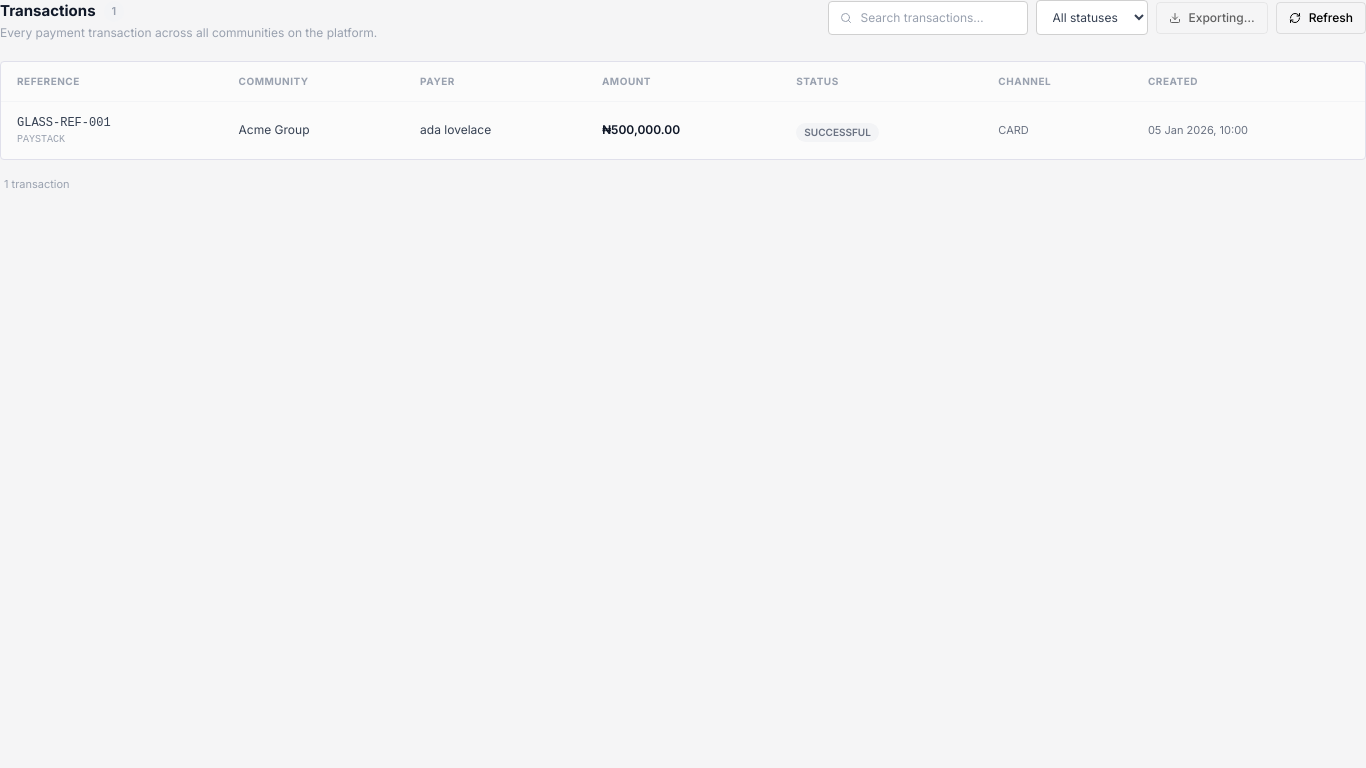
Test case: TransactionsSection › surfaces the failure reason when the transaction failed
Step 1. Click the text "GLASS-REF-001" → [64, 122], box [17, 116, 111, 130]
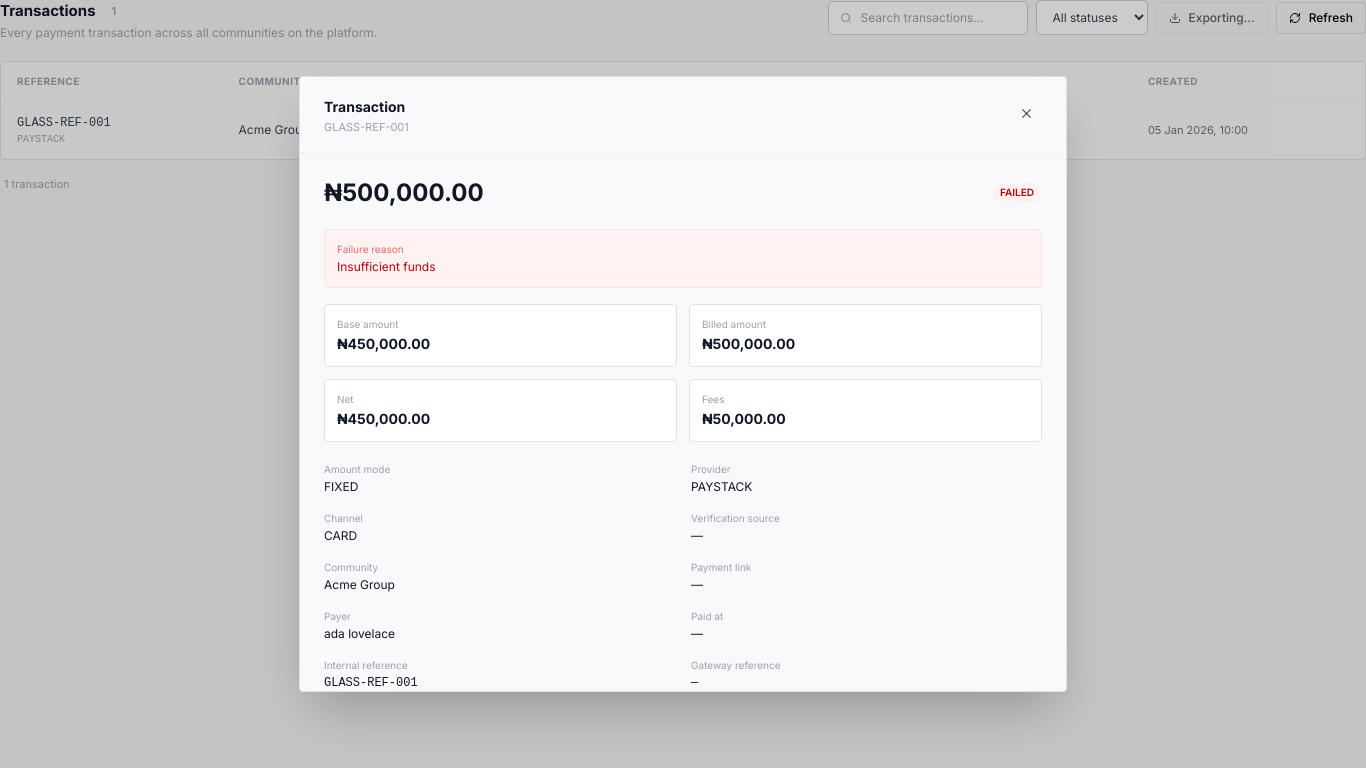
Expected: the text "Insufficient funds" is shown, [337, 259, 436, 274]
